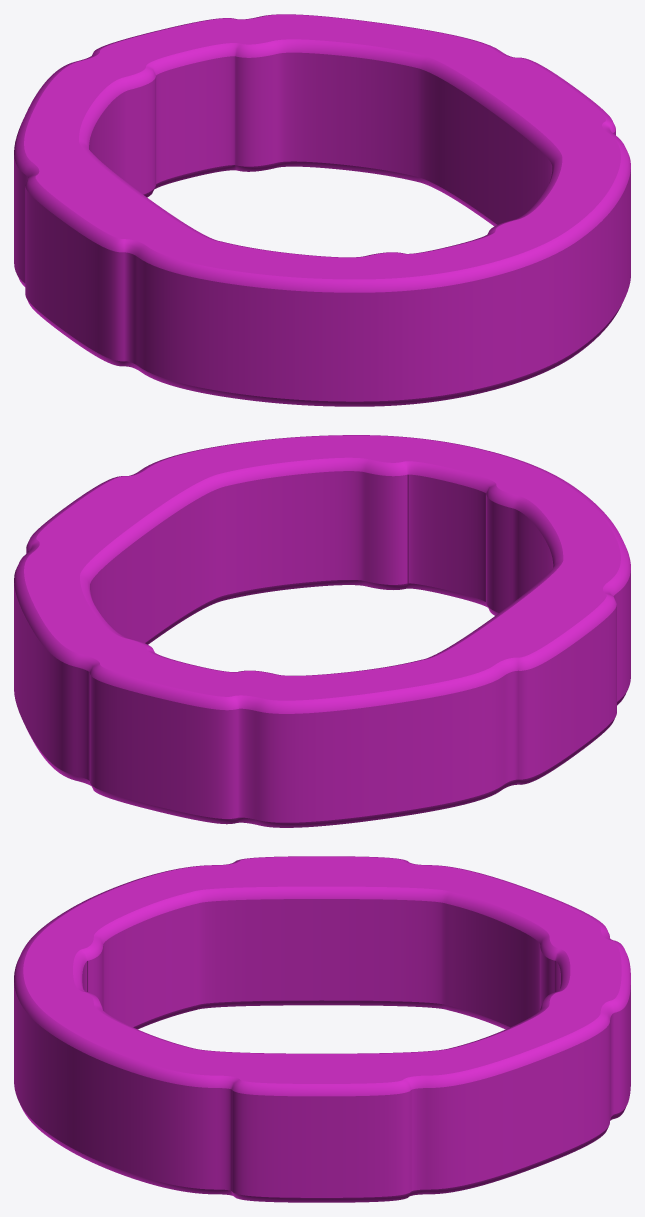
File: Blocky_LetterO.fbx
The picture shows the model from 3 angles, top to bottom: view 1: azimuth 30°, elevation 25°; view 2: azimuth 150°, elevation 25°; view 3: azimuth 270°, elevation 25°; orthographic projection. The views are drawn at different scales.
Parts seen in each view (by area): view 1: BlockyLetter_O; view 2: BlockyLetter_O; view 3: BlockyLetter_O.
Part boxes in pixels (box(x1,y1,x2,y2)): BlockyLetter_O: box(14, 14, 630, 406); BlockyLetter_O: box(14, 435, 630, 827); BlockyLetter_O: box(14, 856, 630, 1202).
Size of the model in its own units: 0.5967 by 0.14 by 0.6611.
